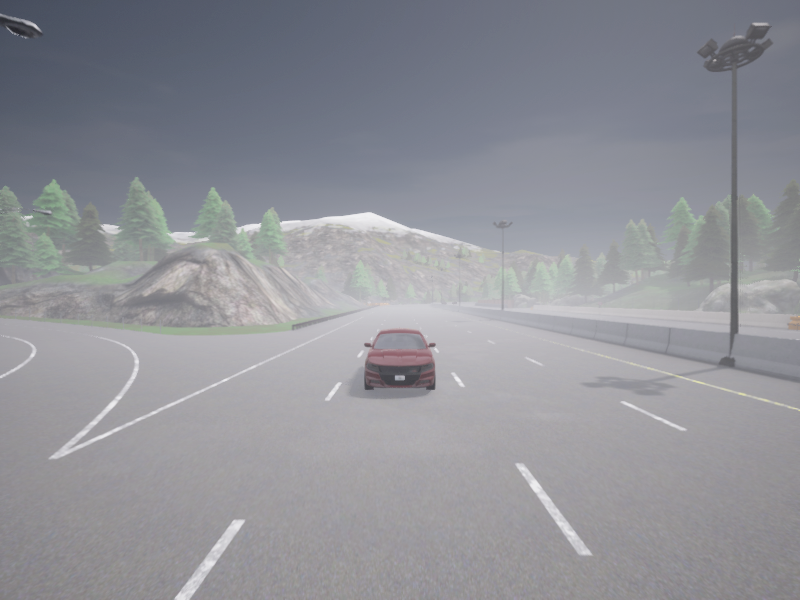vehicle: (364, 328, 435, 389), (454, 301, 457, 303), (442, 301, 445, 303)
